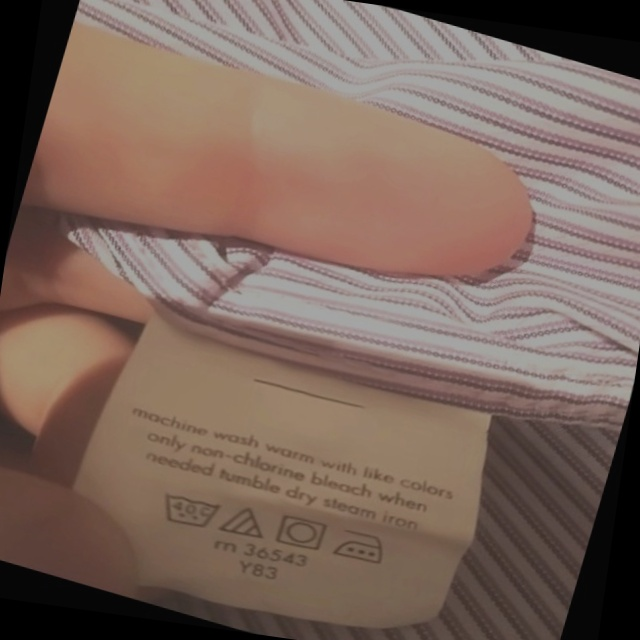40C: (154, 483, 228, 540)
iron_high: (330, 520, 397, 573)
non_chlorine_bleach: (215, 497, 273, 548)
tumble_dry_normal: (271, 509, 335, 560)
